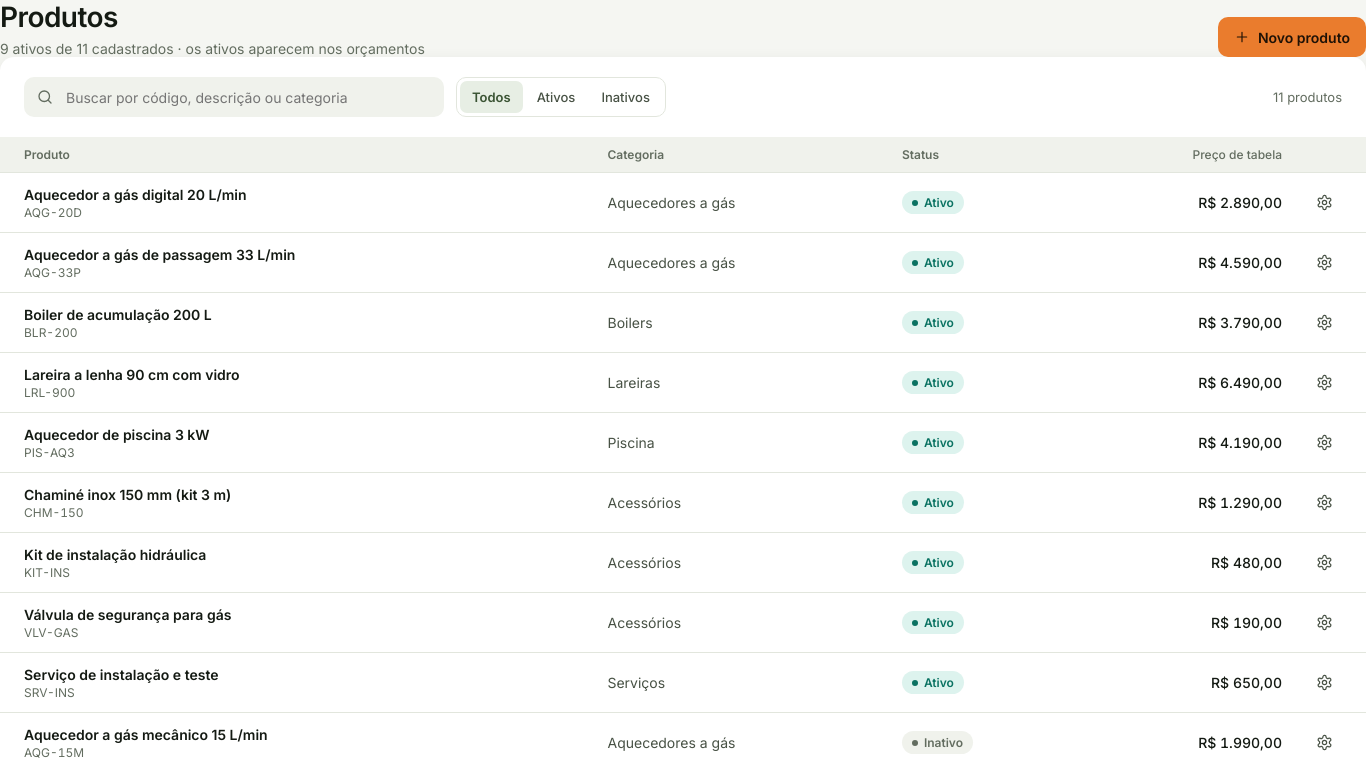
ProductsPage › cadastra um produto novo com o código em maiúsculas
Click the button "Novo produto" at (1292,37), box [1218,17,1365,57]
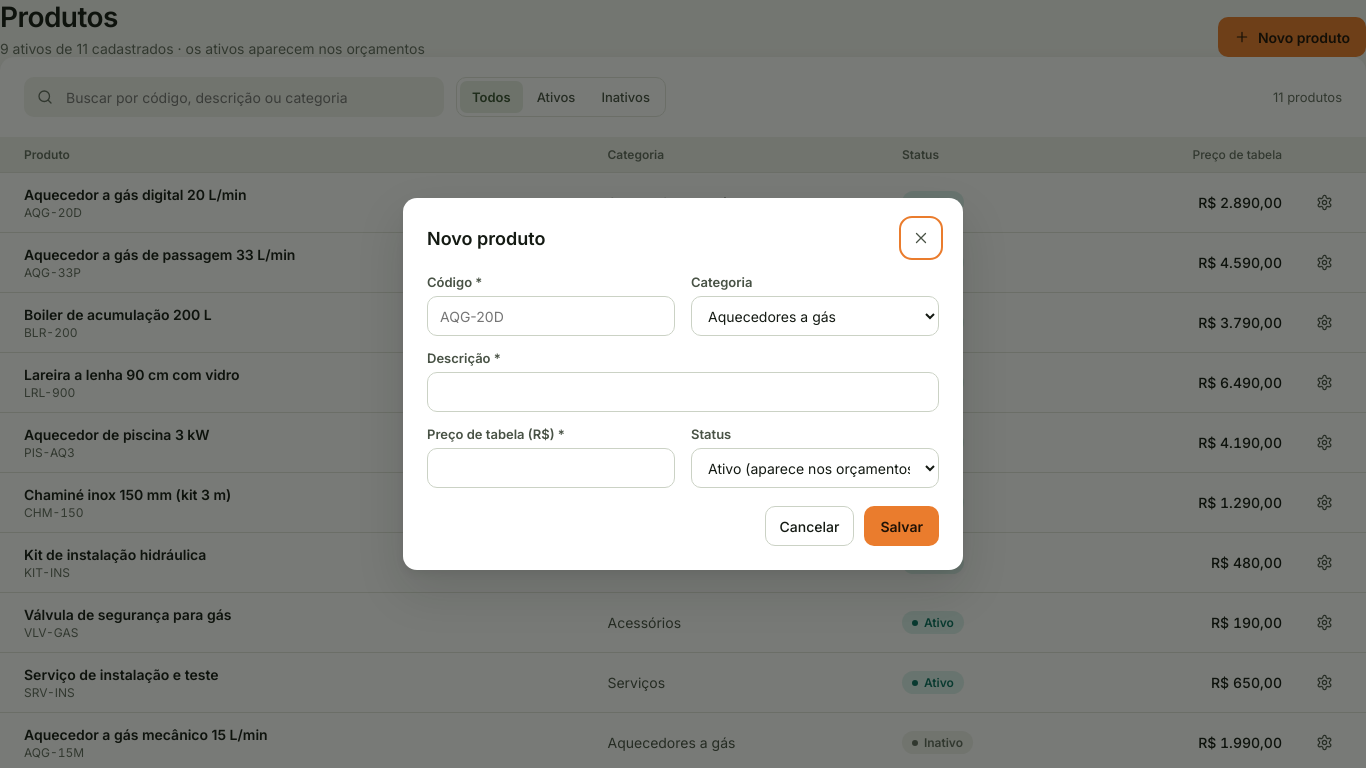
Type "flt-01" into the field labelled "Código *" at (551,316), box [427,296,675,336]
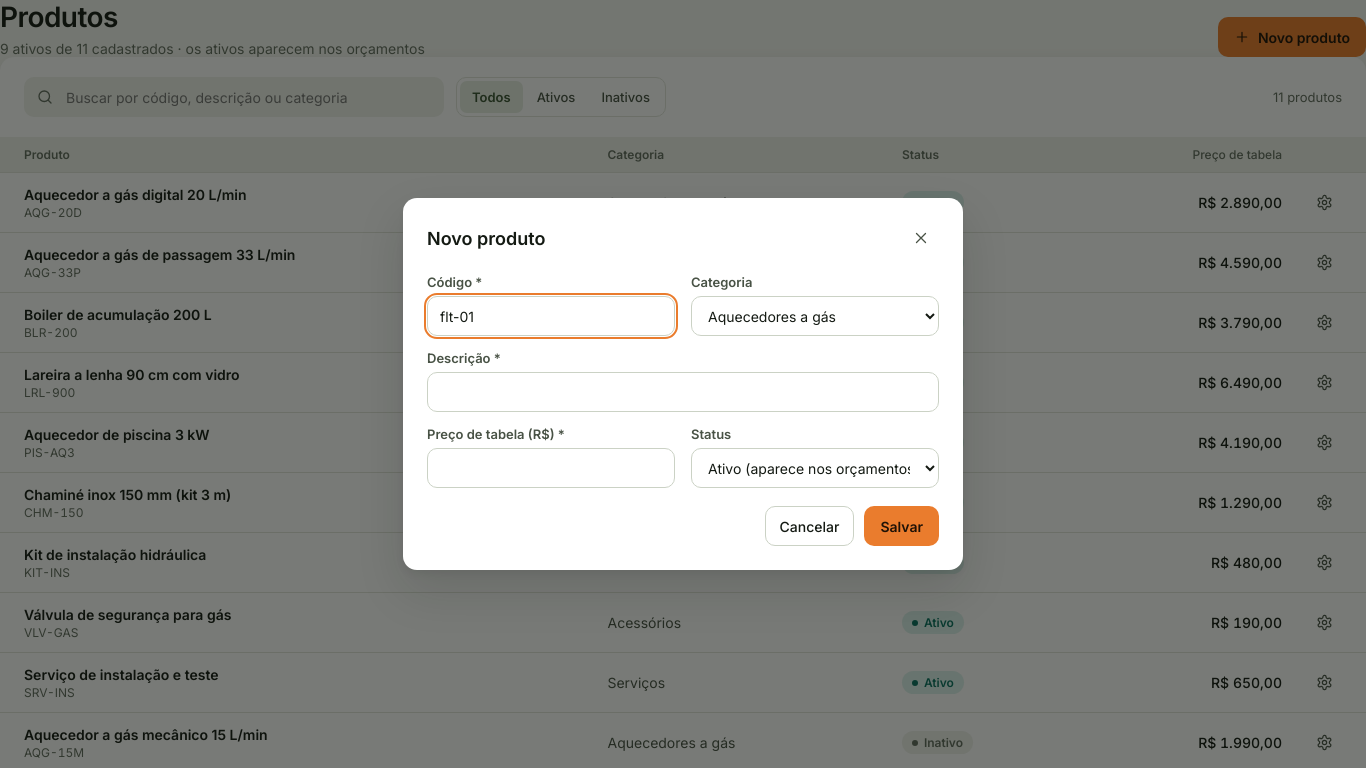
Type "Filtro de água para aquecedor" into the field labelled "Descrição *" at (683,392), box [427,372,939,412]
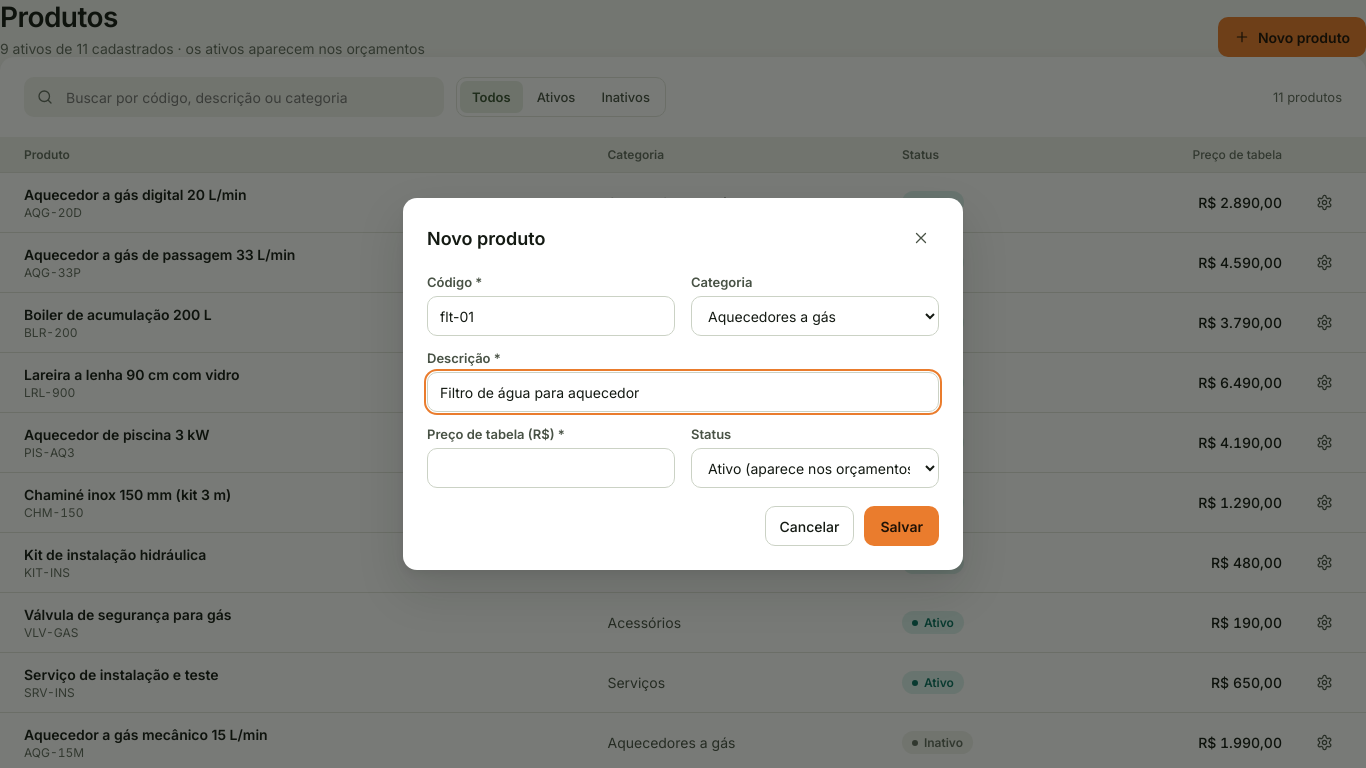
Select "Acessórios" in the dropdown labelled "Categoria" at (815,316), box [691,296,939,336]
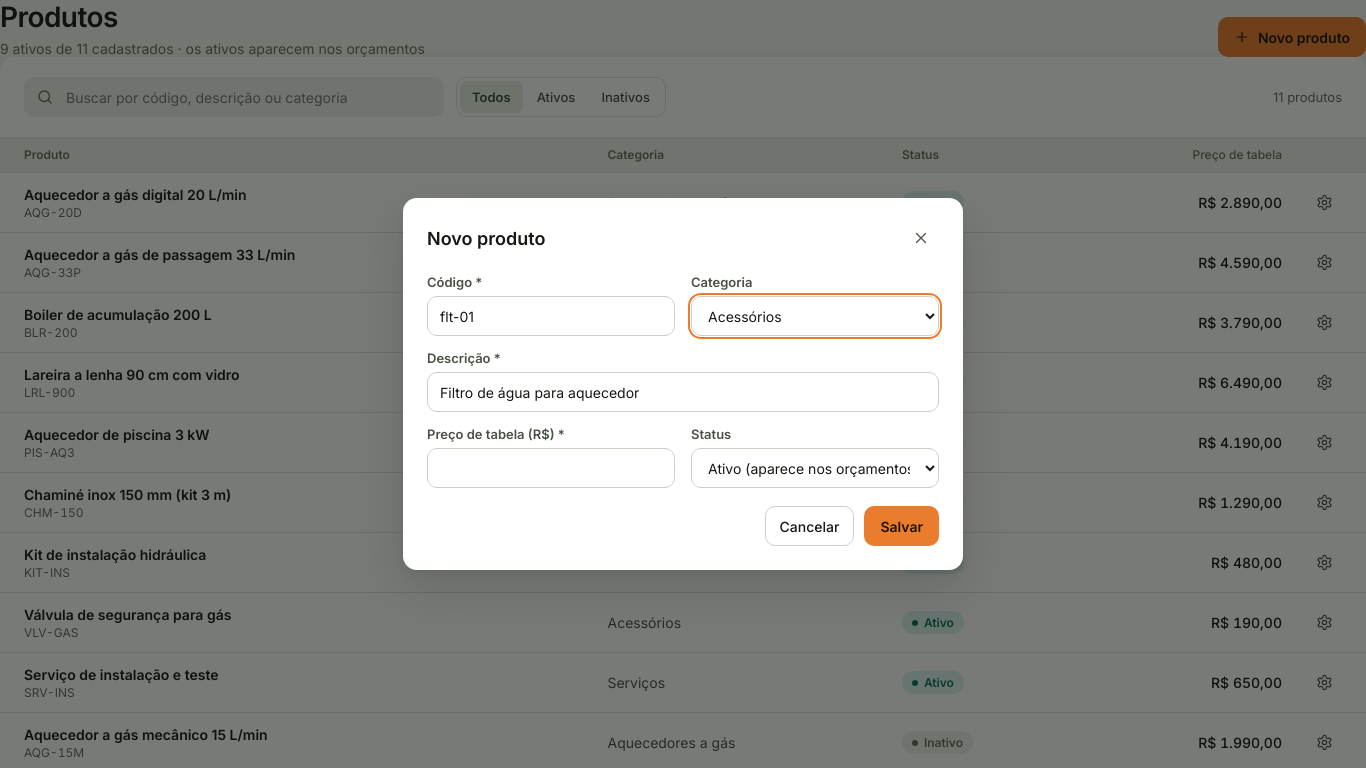
Type "89.9" into the number field labelled "Preço de tabela (R$) *" at (551,468), box [427,448,675,488]
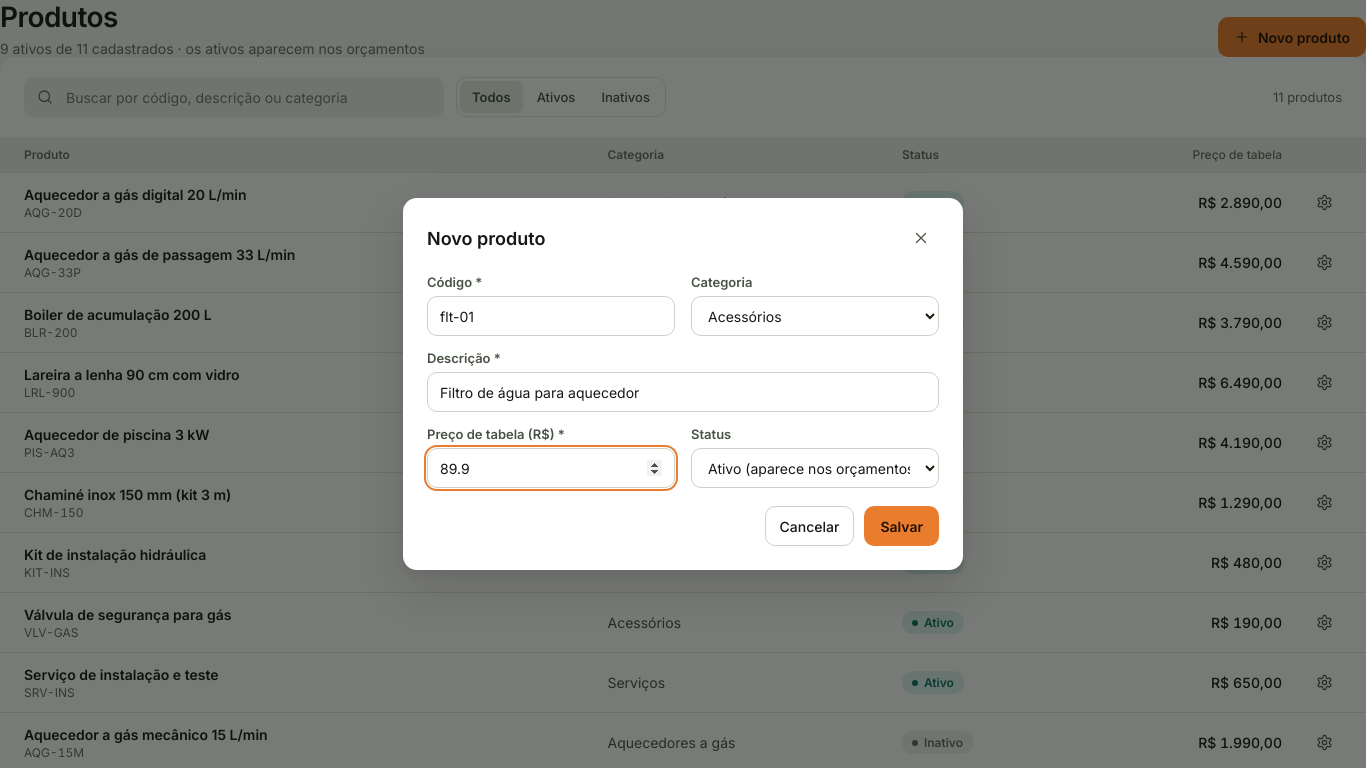
Click the button "Salvar" at (902,526), box [864,506,939,546]
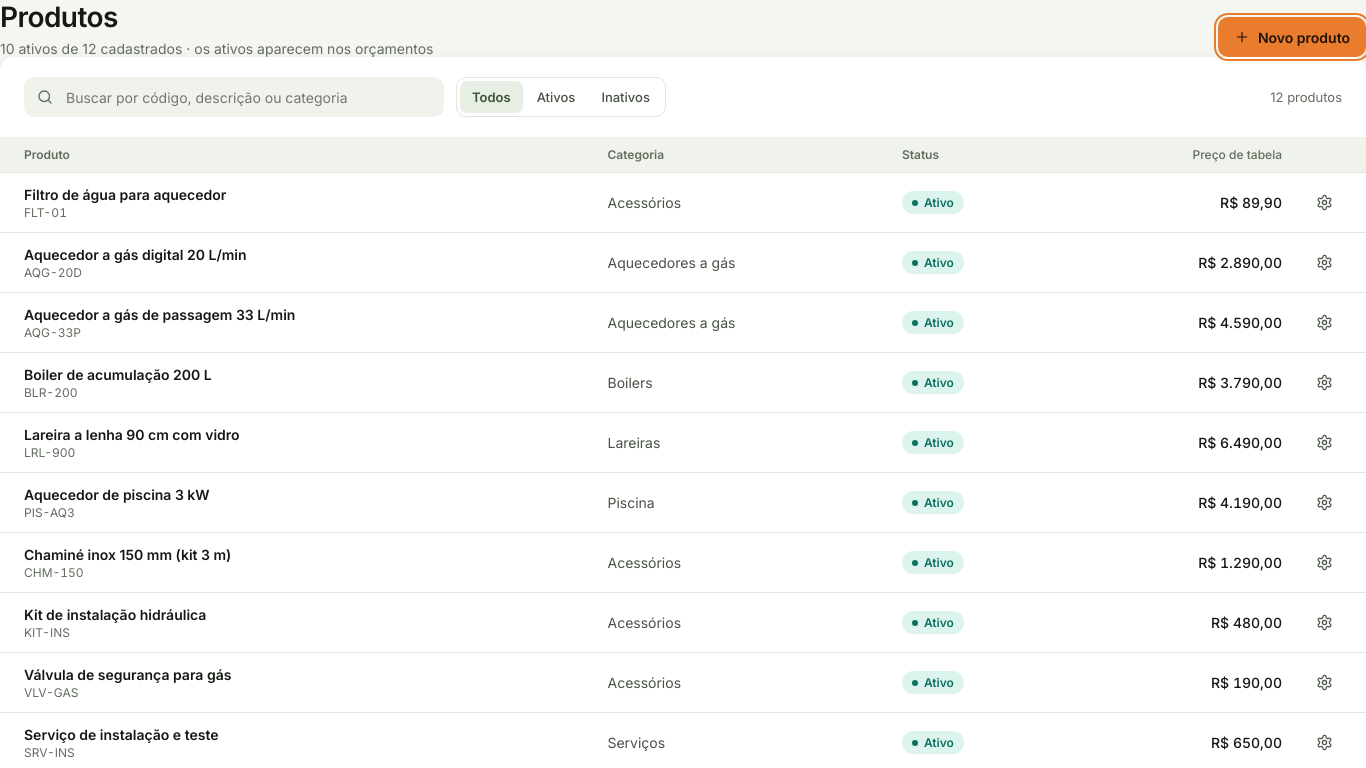
Expected: the text "Filtro de água para aquecedor" is shown, [24,186,226,202]
Expected: the text "FLT-01" is shown, [24,204,67,220]
Expected: the text "R$ 89,90" is shown, [1074,172,1294,232]
